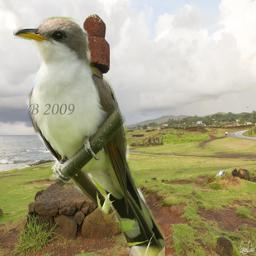Cuckoo: (13, 15, 165, 256)
